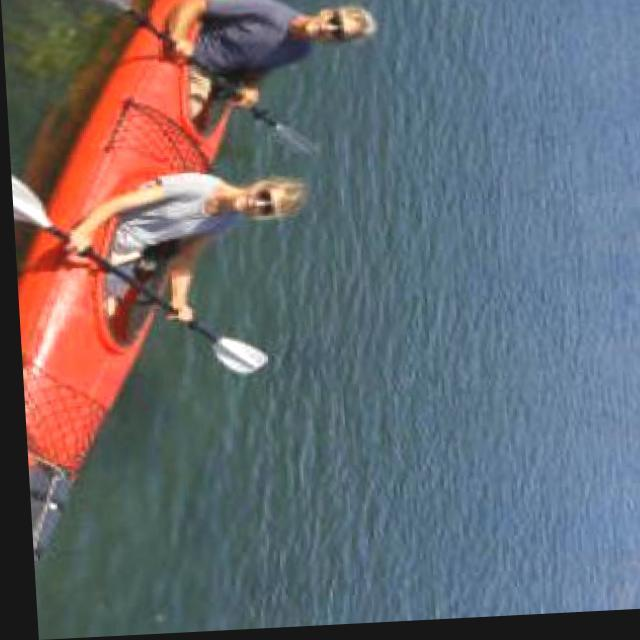kayak: (8, 0, 231, 569)
